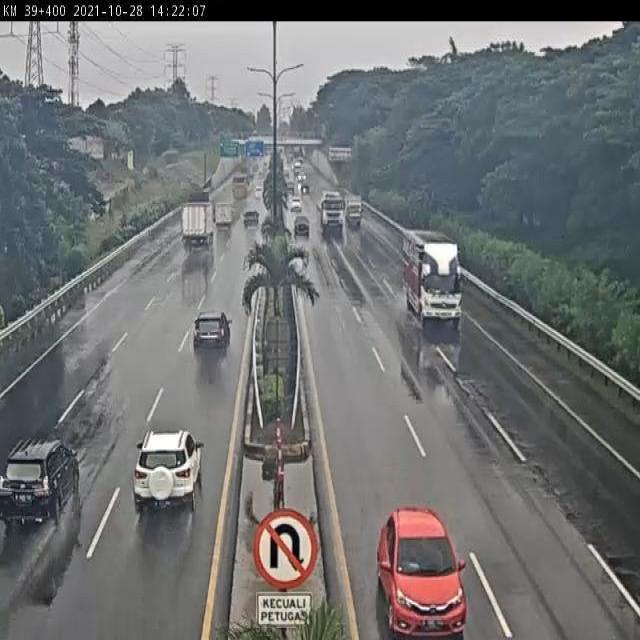car: (376, 506, 469, 640), (0, 436, 83, 527), (129, 428, 200, 513), (191, 310, 233, 354), (242, 208, 260, 231)
truck-l-: (402, 227, 465, 325)
truck-m-: (180, 201, 216, 248)
truck-s-: (214, 203, 236, 233)
